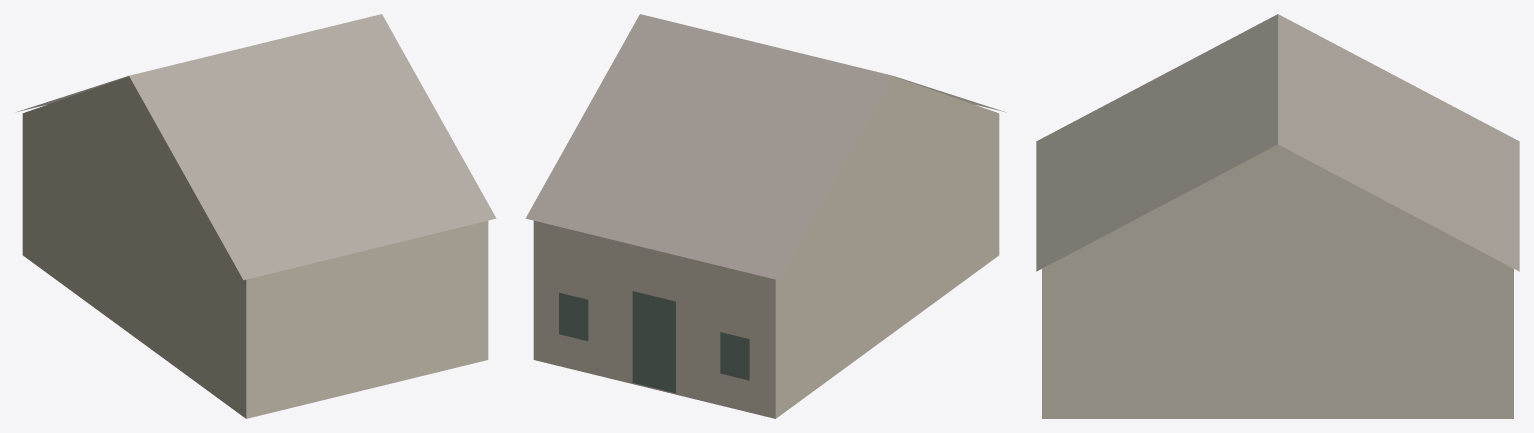
File: recon_1835_north_a2_059__recommended_1835.glb
3 views of the same model, side by side, from view 1: azimuth 30°, elevation 25°; view 2: azimuth 150°, elevation 25°; view 3: azimuth 270°, elevation 25° (orthographic). The views are drawn at different scales.
Parts seen in each view (by area): view 1: recon_1835_north_a2_059__recommended_1835; view 2: recon_1835_north_a2_059__recommended_1835; view 3: recon_1835_north_a2_059__recommended_1835.
Boxes of the visible parts, x1,y1,x2,y2 form: recon_1835_north_a2_059__recommended_1835: (16, 14, 496, 418); recon_1835_north_a2_059__recommended_1835: (525, 14, 1005, 418); recon_1835_north_a2_059__recommended_1835: (1036, 14, 1519, 418).
Bounding box in the file's own units: 6.38 × 6.33 × 9.99.
